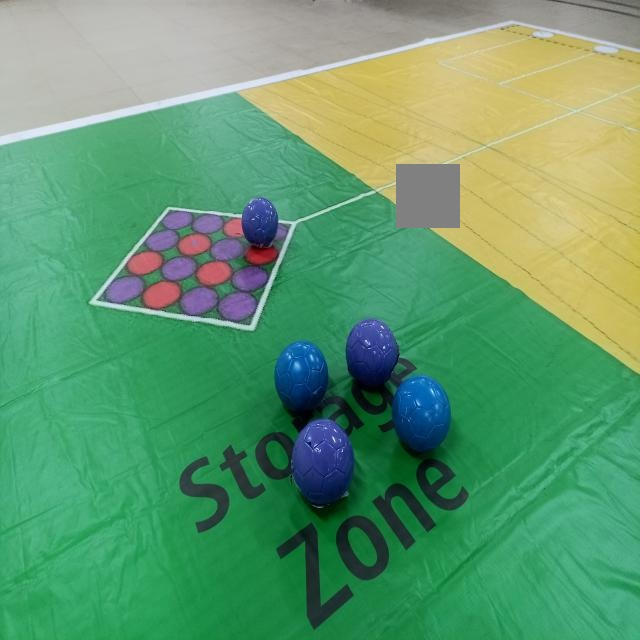blue_ball: (392, 377, 449, 449), (275, 340, 327, 409)
purple_ball: (290, 422, 353, 505), (345, 319, 396, 381), (242, 198, 278, 245)
